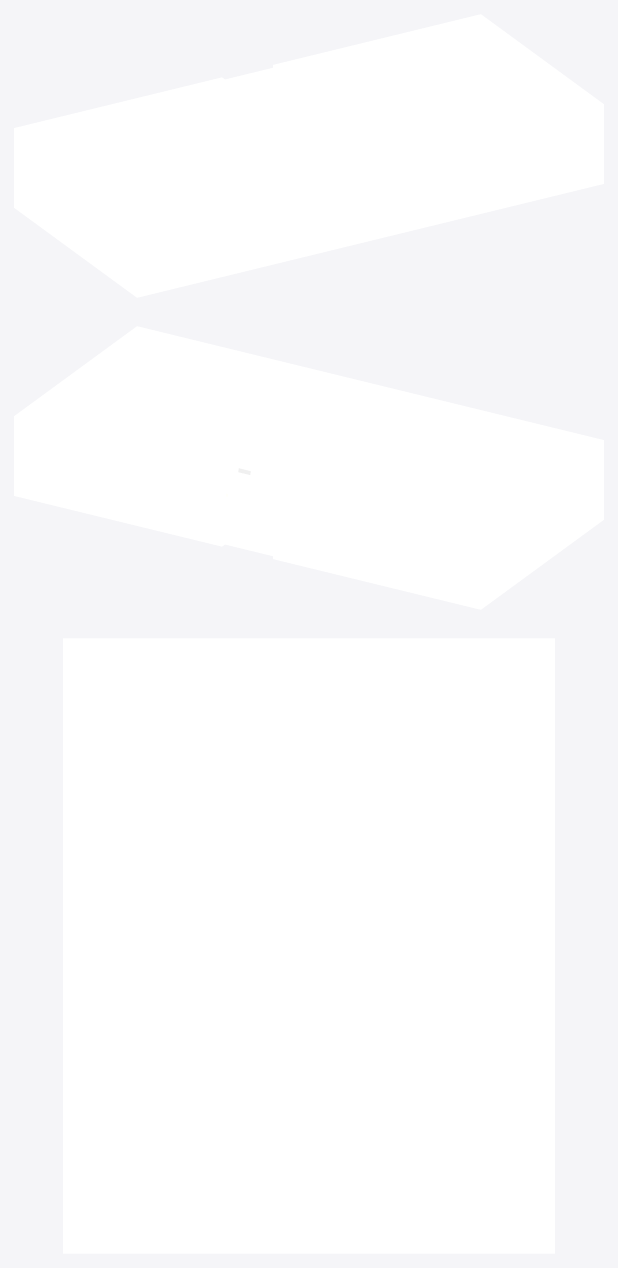
Rendered from DuckieOffice.glb.
3 views of the same model, one above another, from view 1: azimuth 30°, elevation 25°; view 2: azimuth 150°, elevation 25°; view 3: azimuth 270°, elevation 25° (orthographic). The views are drawn at different scales.
Parts seen in each view (by area): view 1: Wall.001, Wall.013, Wall.019, Wall.014, Wall.015, Wall.016, Wall.006, Wall.018, Wall.022, Wall.004, Wall.021, Wall.020 (+36 smaller); view 2: Wall.004, Wall.010, Wall.007, Wall.003, Wall.009, Wall.008, Wall.002, Wall.005, Wall.001, Wall.020, Wall.021, Ceiling.002 (+41 smaller); view 3: Wall.010, Wall.013, Wall.011, Wall.012, Ceiling.031, Ceiling.032, Ceiling.033, Ceiling.034, Ceiling.001, Ceiling.006, Ceiling.007, Ceiling.008 (+31 smaller).
Part boxes in pixels (<box>): Wall.001: <box>105,193,192,297</box>; Wall.013: <box>545,80,603,197</box>; Wall.019: <box>241,177,294,271</box>; Wall.014: <box>495,116,548,209</box>; Wall.015: <box>444,128,497,221</box>; Wall.016: <box>393,140,446,234</box>; Wall.006: <box>342,153,395,246</box>; Wall.018: <box>292,165,344,259</box>; Wall.022: <box>190,190,243,283</box>; Wall.004: <box>14,114,72,230</box>; Wall.021: <box>46,150,80,252</box>; Wall.020: <box>75,172,109,273</box>; Wall.004: <box>425,505,512,609</box>; Wall.010: <box>14,392,72,509</box>; Wall.007: <box>171,452,224,546</box>; Wall.003: <box>323,489,376,583</box>; Wall.009: <box>69,428,122,521</box>; Wall.008: <box>120,440,173,533</box>; Wall.002: <box>374,502,427,595</box>; Wall.005: <box>273,477,325,571</box>; Wall.001: <box>545,426,603,542</box>; Wall.020: <box>537,462,571,564</box>; Wall.021: <box>508,484,542,585</box>; Ceiling.002: <box>378,480,456,514</box>; Wall.010: <box>426,1039,554,1253</box>; Wall.013: <box>63,1039,191,1253</box>; Wall.011: <box>309,1089,426,1253</box>; Wall.012: <box>191,1089,308,1253</box>; Ceiling.031: <box>426,1039,543,1089</box>; Ceiling.032: <box>309,1039,426,1089</box>; Ceiling.033: <box>191,1039,308,1089</box>; Ceiling.034: <box>74,1039,191,1089</box>; Ceiling.001: <box>74,643,191,692</box>; Ceiling.006: <box>426,742,543,791</box>; Ceiling.007: <box>426,792,543,841</box>; Ceiling.008: <box>309,742,426,791</box>.
Size of the model in its own units: 18.4 by 3 by 8.4.
Materials: 1 (1 with a texture image).
